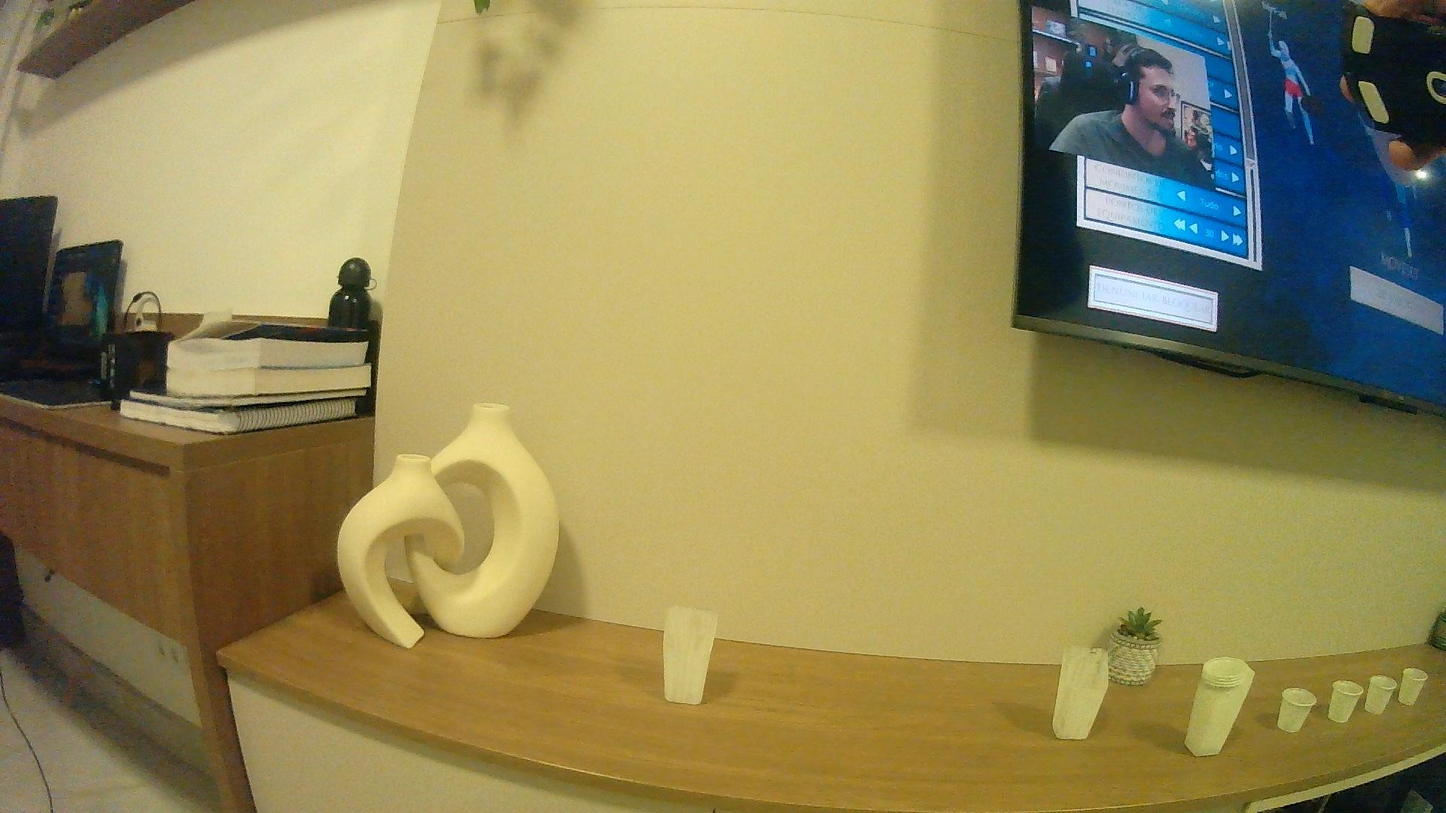erva_daninha: (1047, 641, 1115, 742), (660, 602, 720, 708)
planta: (1274, 684, 1316, 738), (1326, 676, 1365, 727), (1363, 674, 1398, 715), (1398, 667, 1429, 709)
